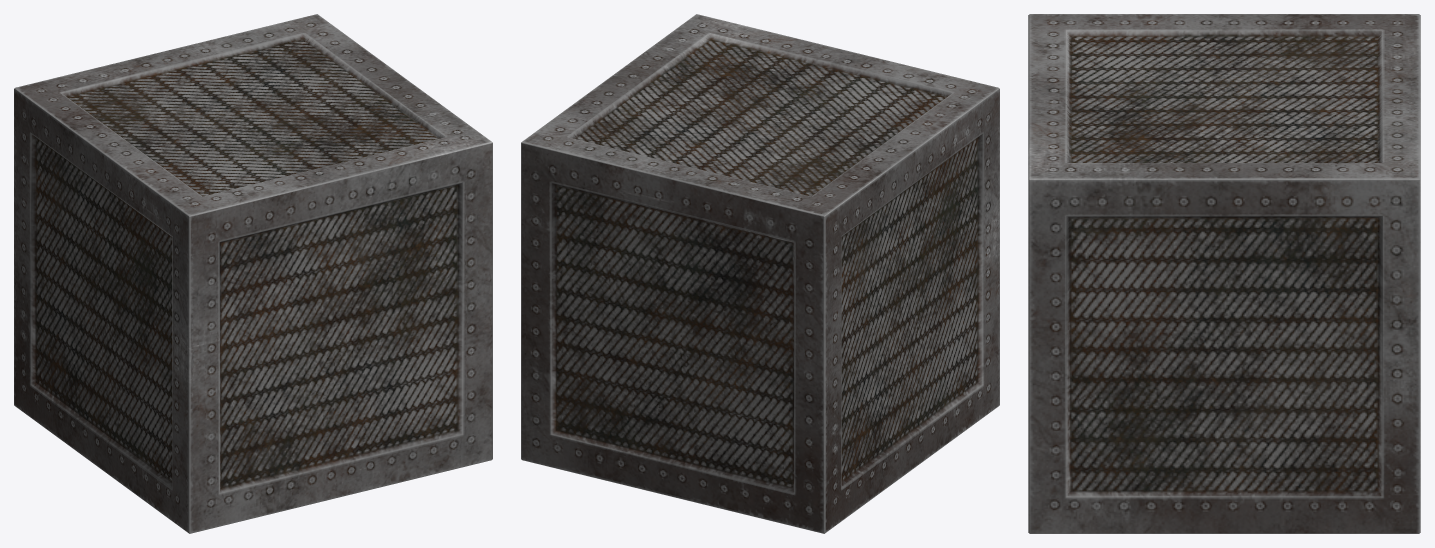
File: cube-metal.glb
3 views of the same model, side by side, from view 1: azimuth 30°, elevation 25°; view 2: azimuth 150°, elevation 25°; view 3: azimuth 270°, elevation 25° (orthographic). The views are drawn at different scales.
Parts seen in each view (by area): view 1: pCube15; view 2: pCube15; view 3: pCube15.
Boxes of the visible parts, x1=… form: pCube15: x1=14, y1=14, x2=492, y2=533; pCube15: x1=521, y1=14, x2=999, y2=533; pCube15: x1=1028, y1=14, x2=1420, y2=533.
Size of the model in its own units: 1 by 1 by 1.
1 material, 1 textured.
